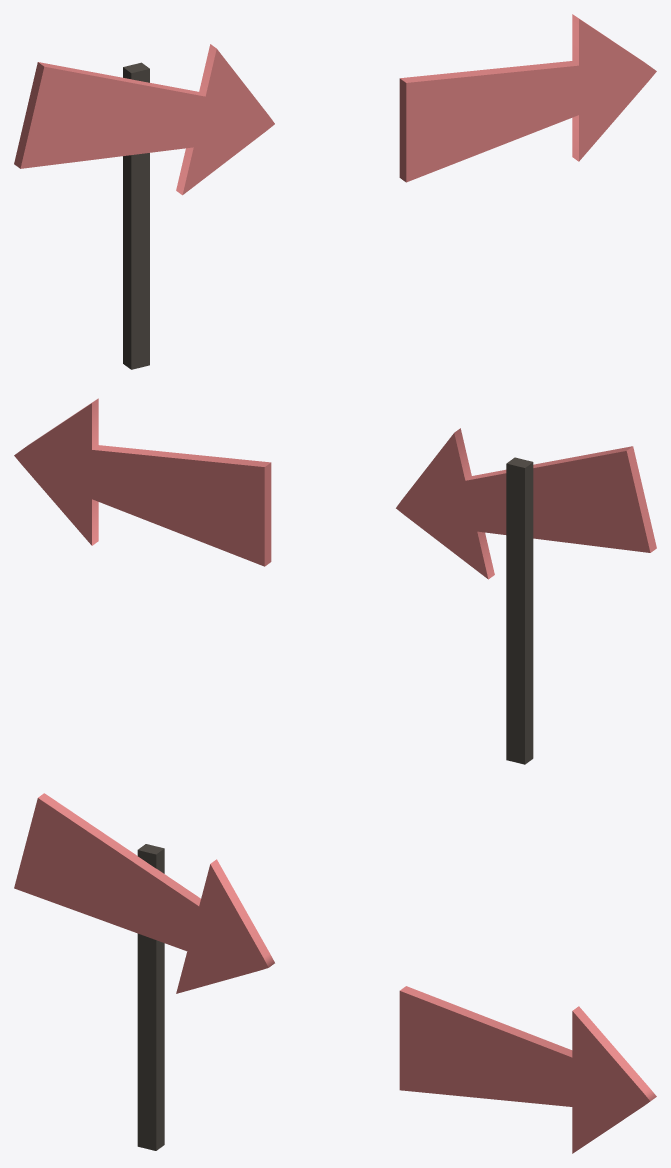
Rendered from TUTORIAL ARROWS.fbx.
3 renders of one model, top to bottom at view 1: azimuth 30°, elevation 25°; view 2: azimuth 150°, elevation 25°; view 3: azimuth 330°, elevation 25°, orthographic.
Parts seen in each view (by area): view 1: ARROW1, ARROW, RUSTYMETAL; view 2: ARROW1, ARROW, RUSTYMETAL; view 3: ARROW, ARROW1, RUSTYMETAL.
Part boxes in pixels (x1,y1,x2,y2): ARROW1: [399, 14, 656, 182]; ARROW: [14, 44, 274, 195]; RUSTYMETAL: [123, 62, 149, 369]; ARROW1: [14, 398, 271, 566]; ARROW: [396, 428, 656, 579]; RUSTYMETAL: [506, 457, 533, 764]; ARROW: [14, 793, 274, 993]; ARROW1: [399, 986, 656, 1153]; RUSTYMETAL: [137, 844, 164, 1150].
Bounding box in the file's own units: 9.17 × 4.55 × 0.3672.
